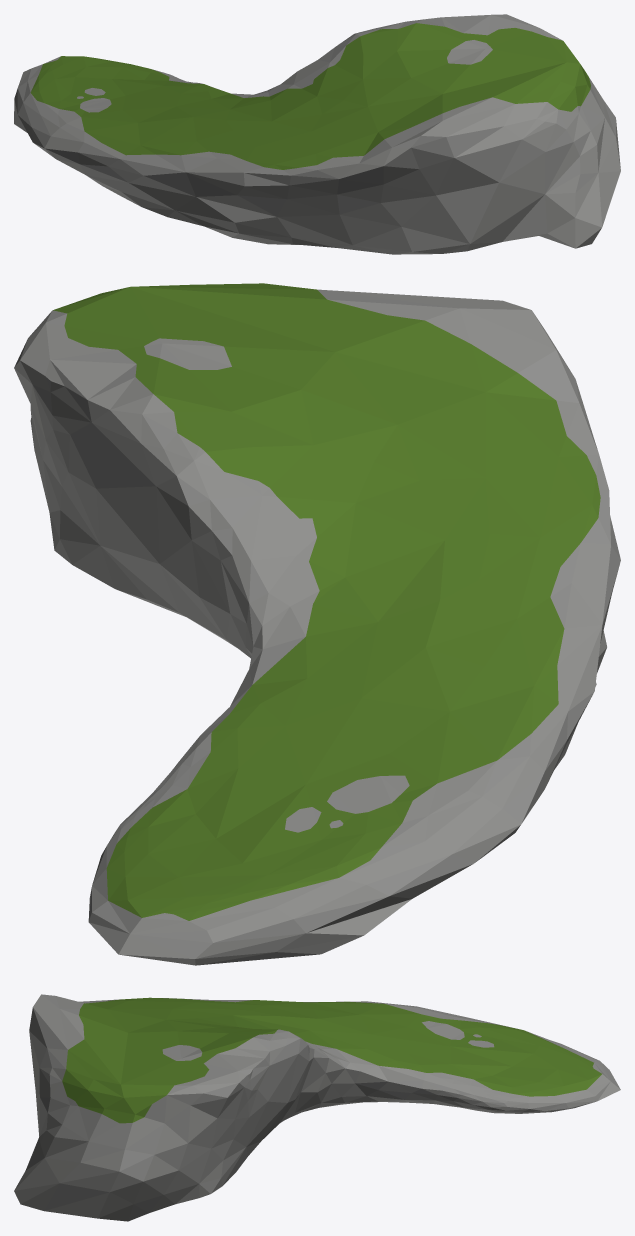
Rendered from Cavern_FloorGrass_Narrow_Ramp_Lrg-03.fbx.
The picture shows the model from 3 angles, top to bottom: view 1: azimuth 30°, elevation 25°; view 2: azimuth 150°, elevation 25°; view 3: azimuth 270°, elevation 25°; orthographic projection. The views are drawn at different scales.
Visible parts, largest first — view 1: Cavern_FloorGrass_Narrow_Ramp_Lrg-03; view 2: Cavern_FloorGrass_Narrow_Ramp_Lrg-03; view 3: Cavern_FloorGrass_Narrow_Ramp_Lrg-03.
Boxes of the visible parts, <box> form: Cavern_FloorGrass_Narrow_Ramp_Lrg-03: <box>14,14,620,254</box>; Cavern_FloorGrass_Narrow_Ramp_Lrg-03: <box>14,283,620,965</box>; Cavern_FloorGrass_Narrow_Ramp_Lrg-03: <box>14,994,620,1221</box>.
Bounding box in the file's own units: 1611 × 557 × 2085.
Materials: 1 (1 with a texture image).
